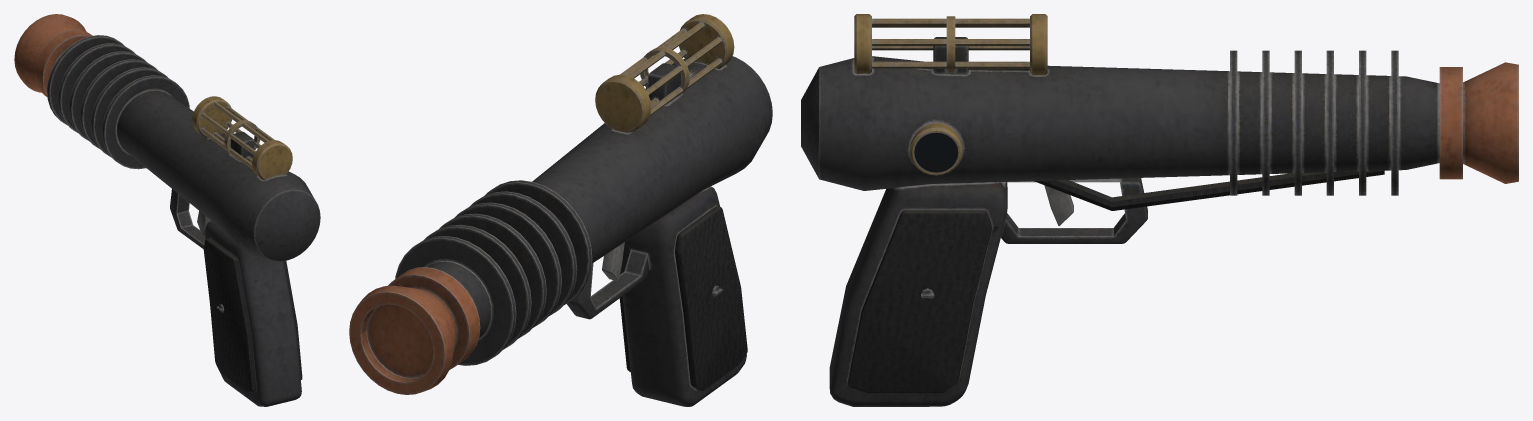
The model's file is candidate_impulse_pistol.glb.
The picture shows the model from 3 angles, left to right: view 1: azimuth 30°, elevation 25°; view 2: azimuth 150°, elevation 25°; view 3: azimuth 270°, elevation 25°; orthographic projection. The views are drawn at different scales.
Parts seen in each view (by area): view 1: candidate_impulse_pistol; view 2: candidate_impulse_pistol; view 3: candidate_impulse_pistol.
Boxes of the visible parts, left/top/right/bottom form: candidate_impulse_pistol: left=14, top=14, right=320, bottom=406; candidate_impulse_pistol: left=349, top=14, right=772, bottom=406; candidate_impulse_pistol: left=801, top=14, right=1518, bottom=406.
Bounding box in the file's own units: 0.0645 × 0.1856 × 0.3185.
1 material, 1 textured.
